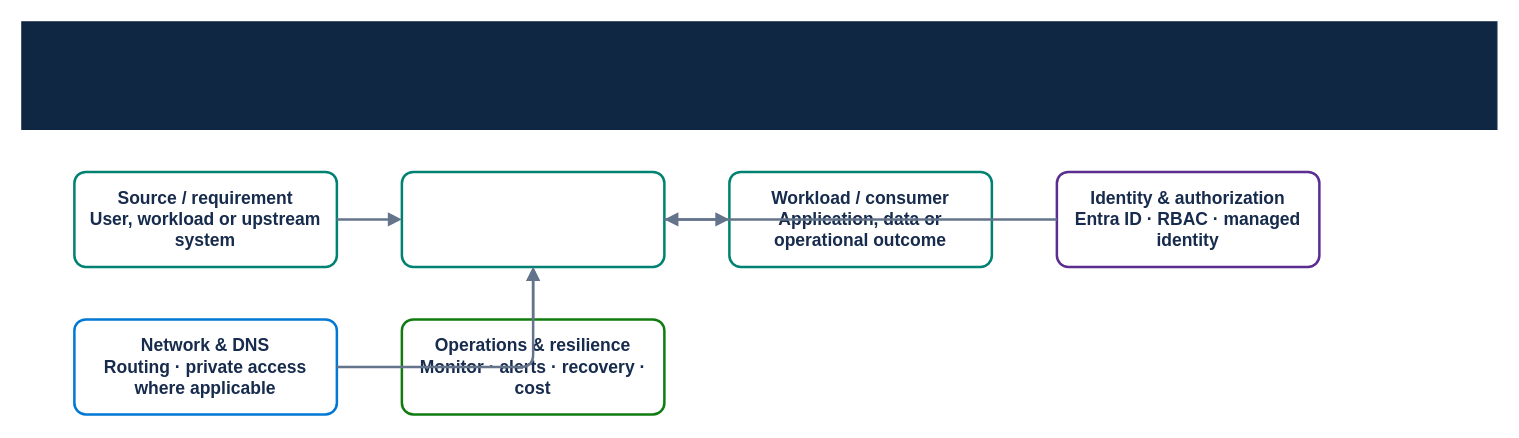
This 1519x438 diagram has some shape labels left out. The centre of each missing label's shape, as x and y in pixels:
"Azure Data Factory" goes at point (759, 75).
"Azure Data Factory Azure service / architecture control" goes at point (532, 219).
